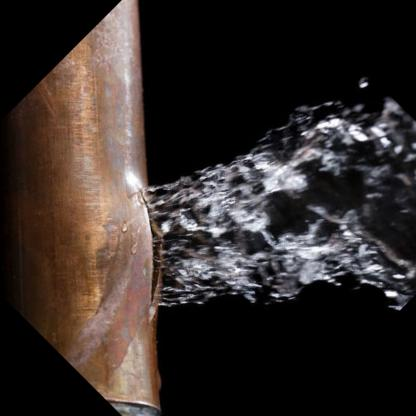burst: (128, 155, 200, 323)
